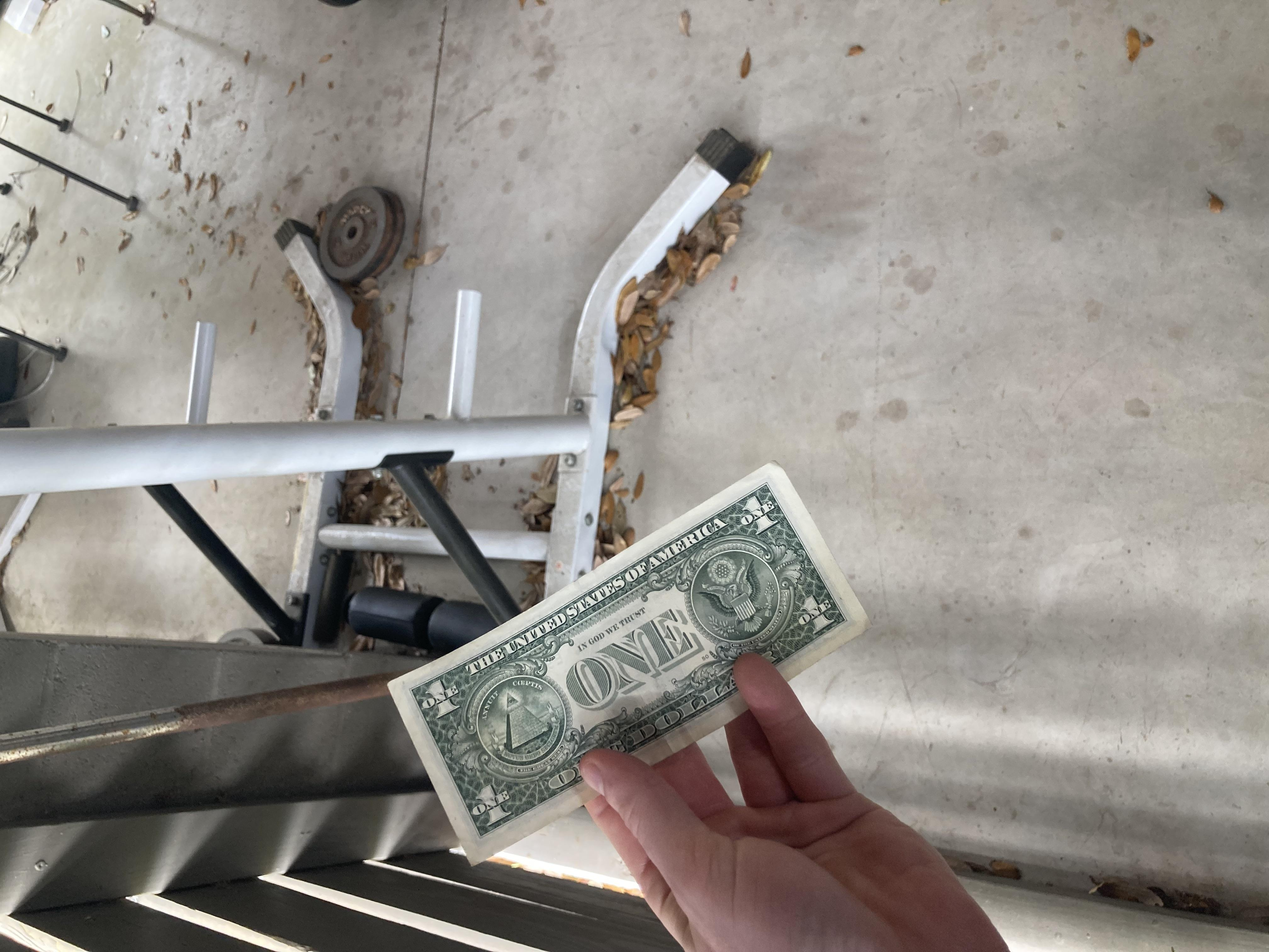one-back: (115, 290, 661, 654)
